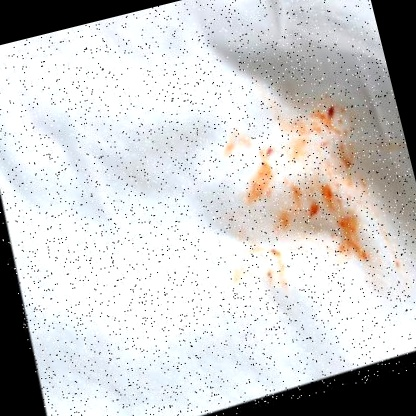kimchi: (182, 63, 416, 306), (320, 201, 371, 270), (315, 169, 343, 209), (319, 91, 350, 124), (300, 190, 325, 226), (264, 244, 281, 263), (261, 145, 277, 159)
